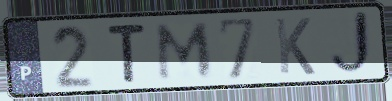2: (49, 22, 99, 89)
7: (215, 15, 259, 82)
J: (326, 8, 376, 79)
K: (272, 16, 318, 77)
M: (155, 20, 215, 83)
T: (105, 21, 149, 85)
